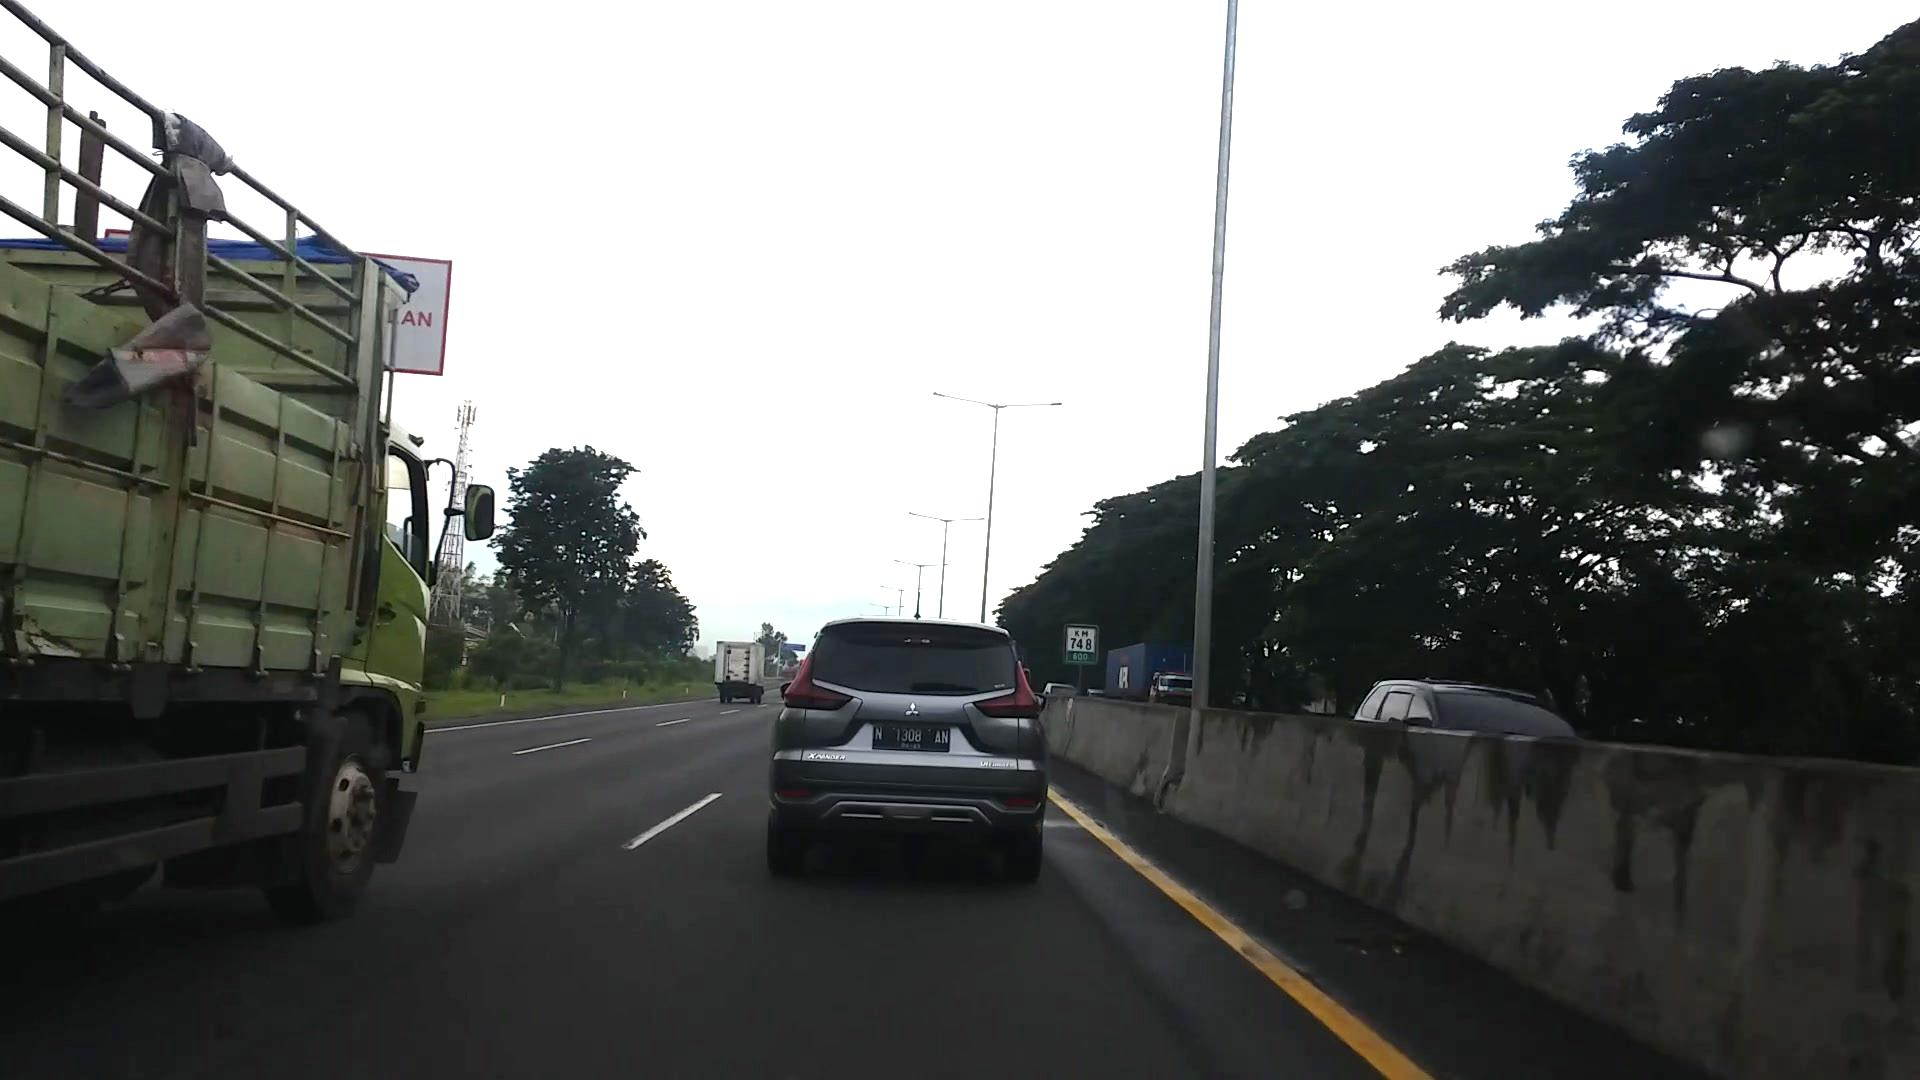plate_positive: (872, 721, 949, 752)
